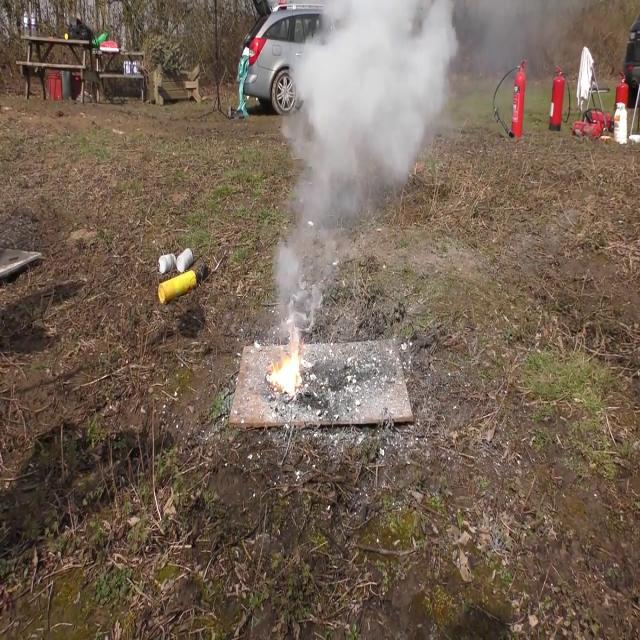Fire: (267, 344, 305, 396)
Smoke: (272, 0, 468, 334), (278, 0, 468, 233)
